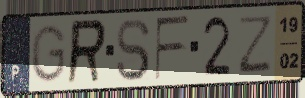2: (201, 14, 232, 78)
F: (154, 14, 192, 83)
G: (29, 22, 68, 85)
R: (64, 17, 109, 88)
S: (114, 16, 153, 83)
Z: (236, 13, 275, 76)
